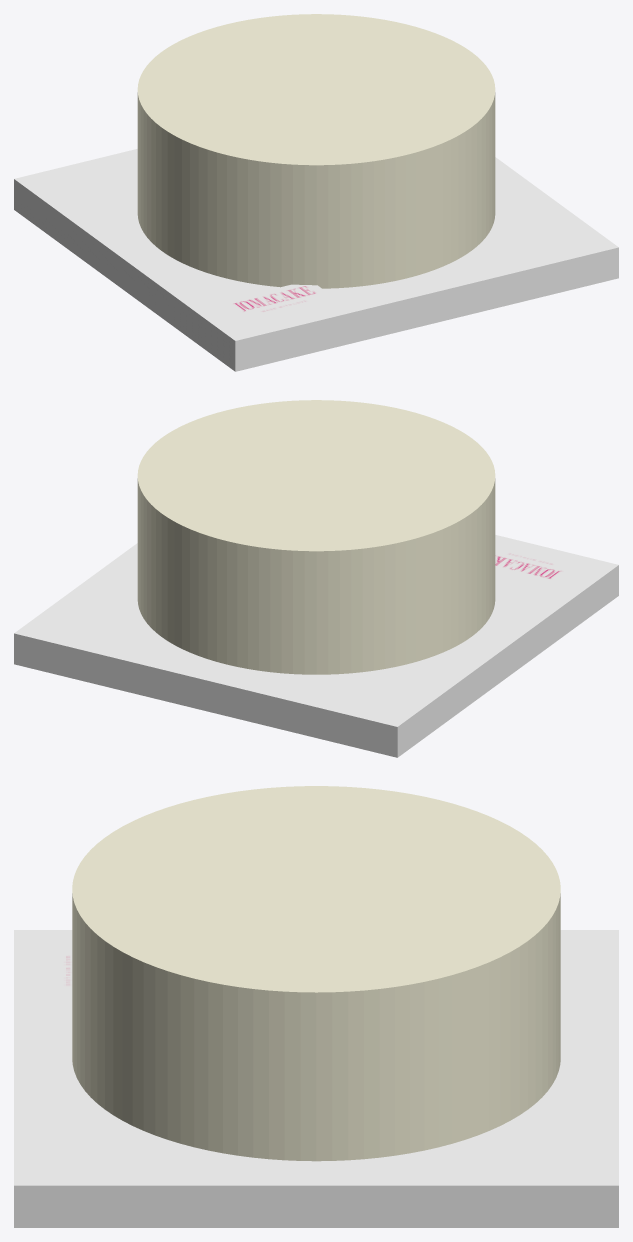
The model's file is cake_8in_layers2_v34.glb.
3 renders of one model, top to bottom at view 1: azimuth 30°, elevation 25°; view 2: azimuth 150°, elevation 25°; view 3: azimuth 270°, elevation 25°, orthographic. The views are drawn at different scales.
Visible parts, largest first — view 1: Cake, Board, Logo; view 2: Cake, Board, Logo; view 3: Cake, Board, Logo.
Part boxes in pixels (left/top/right/bottom): Cake: left=137, top=14, right=495, bottom=288; Board: left=14, top=149, right=618, bottom=371; Logo: left=218, top=284, right=336, bottom=321; Cake: left=137, top=400, right=495, bottom=674; Board: left=14, top=535, right=618, bottom=757; Logo: left=495, top=544, right=582, bottom=584; Cake: left=72, top=786, right=560, bottom=1161; Board: left=14, top=930, right=618, bottom=1227; Logo: left=50, top=940, right=72, bottom=1001.
Size of the model in its own units: 0.26 by 0.1 by 0.26.
